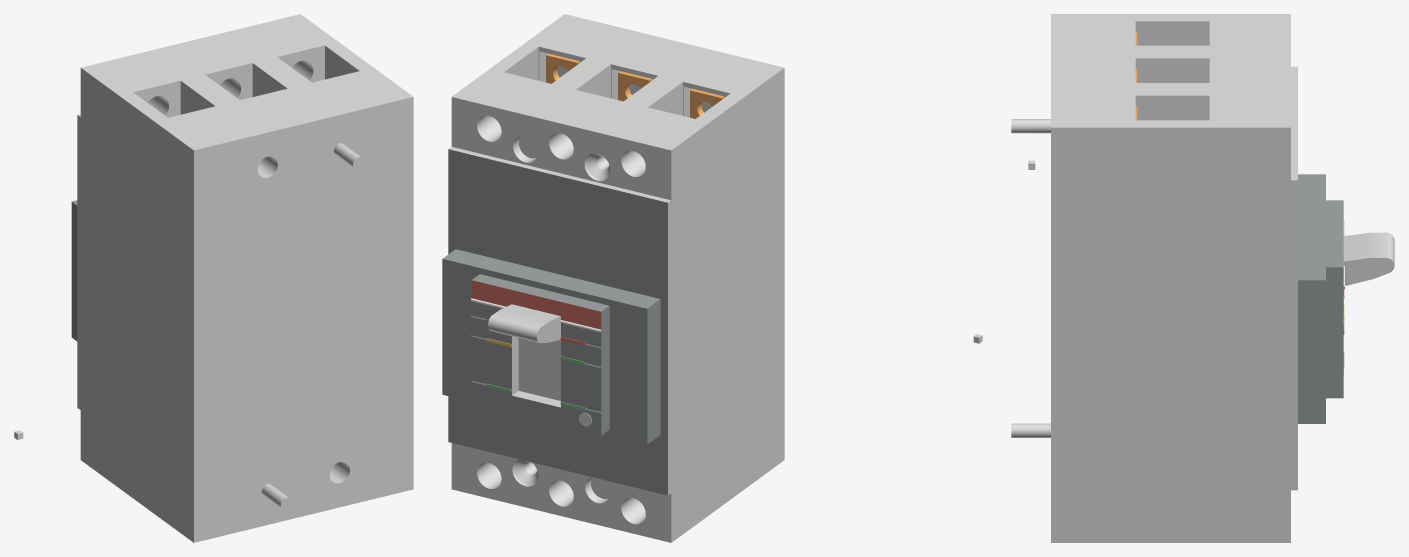
The model's file is 1SDH001295R0008.glb.
The picture shows the model from 3 angles, left to right: view 1: azimuth 30°, elevation 25°; view 2: azimuth 150°, elevation 25°; view 3: azimuth 270°, elevation 25°; orthographic projection. The views are drawn at different scales.
Visible parts, largest first — view 1: Body1; view 2: Body1; view 3: Body1.
Part boxes in pixels (x1,y1,x2,y2): Body1: [71, 14, 413, 542]; Body1: [442, 14, 784, 542]; Body1: [1011, 14, 1394, 542].
Bounding box in the file's own units: 141 × 130 × 109.
